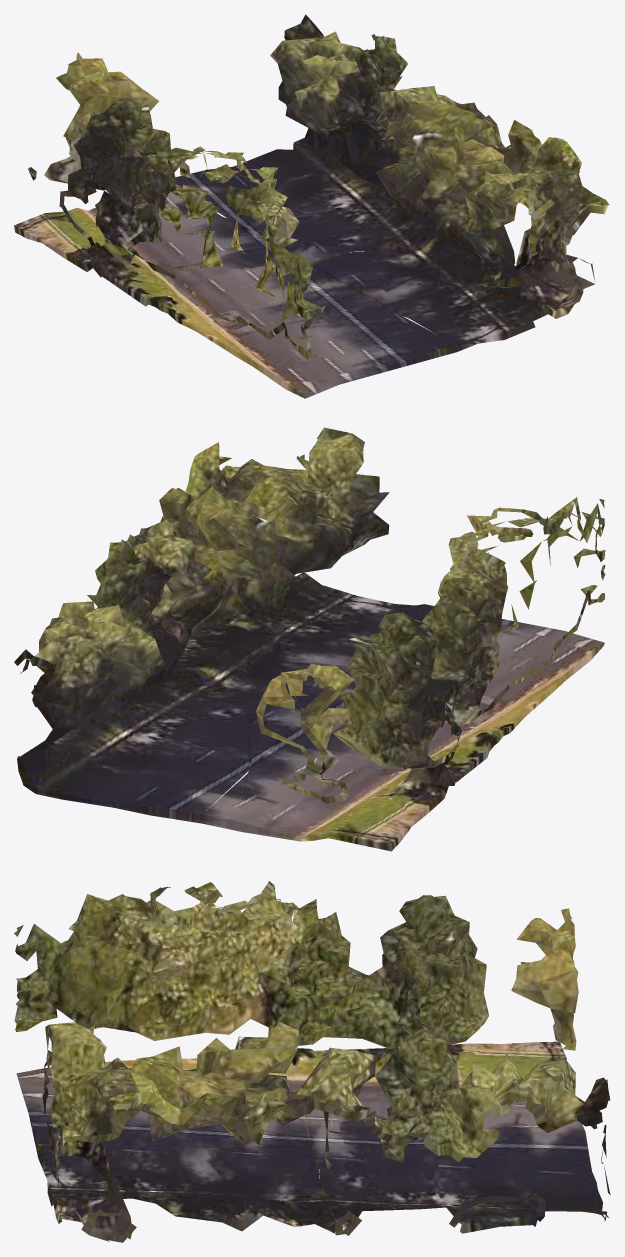
3 renders of one model, top to bottom at view 1: azimuth 30°, elevation 25°; view 2: azimuth 150°, elevation 25°; view 3: azimuth 270°, elevation 25°, orthographic. The views are drawn at different scales.
Parts seen in each view (by area): view 1: Mesh_0; view 2: Mesh_0; view 3: Mesh_0.
Boxes of the visible parts, box(x1,y1,x2,y2) form: Mesh_0: box(14, 14, 609, 398); Mesh_0: box(14, 427, 605, 851); Mesh_0: box(14, 881, 610, 1242).
Size of the model in its own units: 33.41 by 15.04 by 41.61.
1 material, 1 textured.
